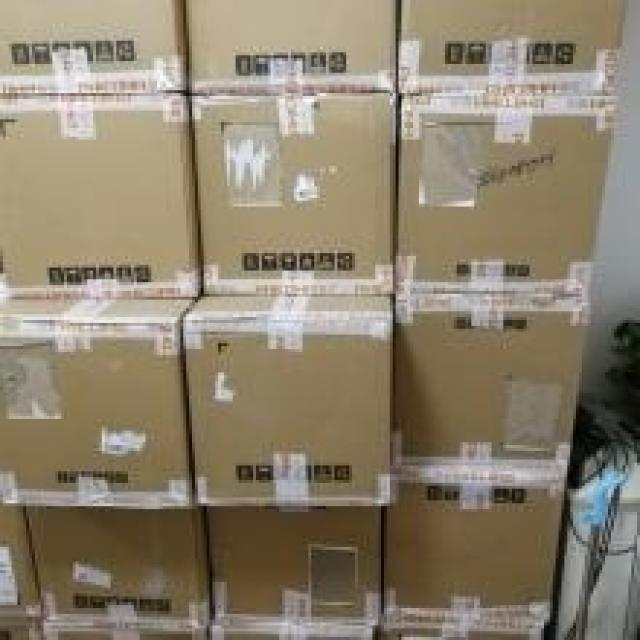box: (394, 91, 619, 293), (183, 294, 396, 507), (0, 293, 204, 509), (188, 92, 398, 294), (0, 89, 202, 297), (390, 290, 591, 466), (384, 464, 569, 637), (25, 502, 211, 637), (207, 507, 385, 637), (398, 1, 629, 92), (184, 0, 401, 94), (0, 1, 188, 92), (0, 500, 43, 637)
